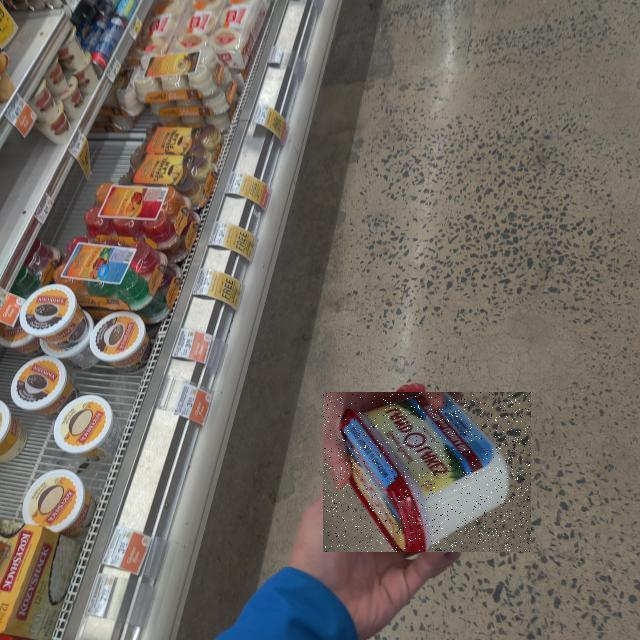Butter: (323, 393, 531, 553)
